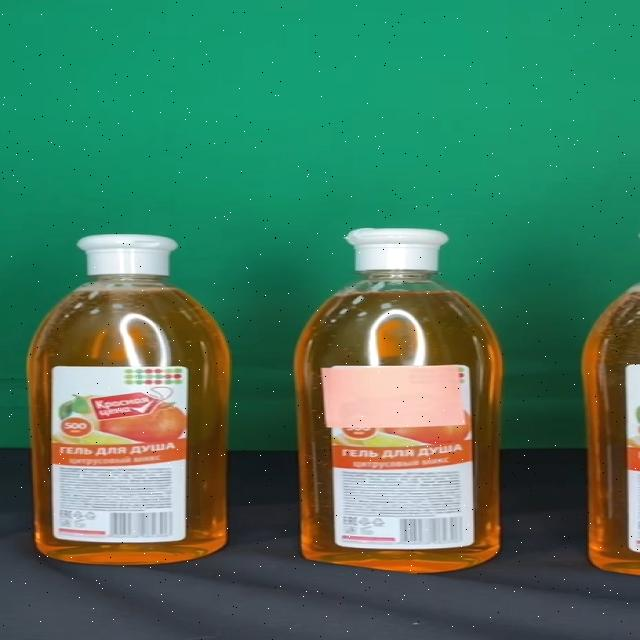Bottle: (294, 229, 503, 574), (26, 233, 231, 565)
Cap: (344, 228, 448, 270), (76, 234, 177, 275)
